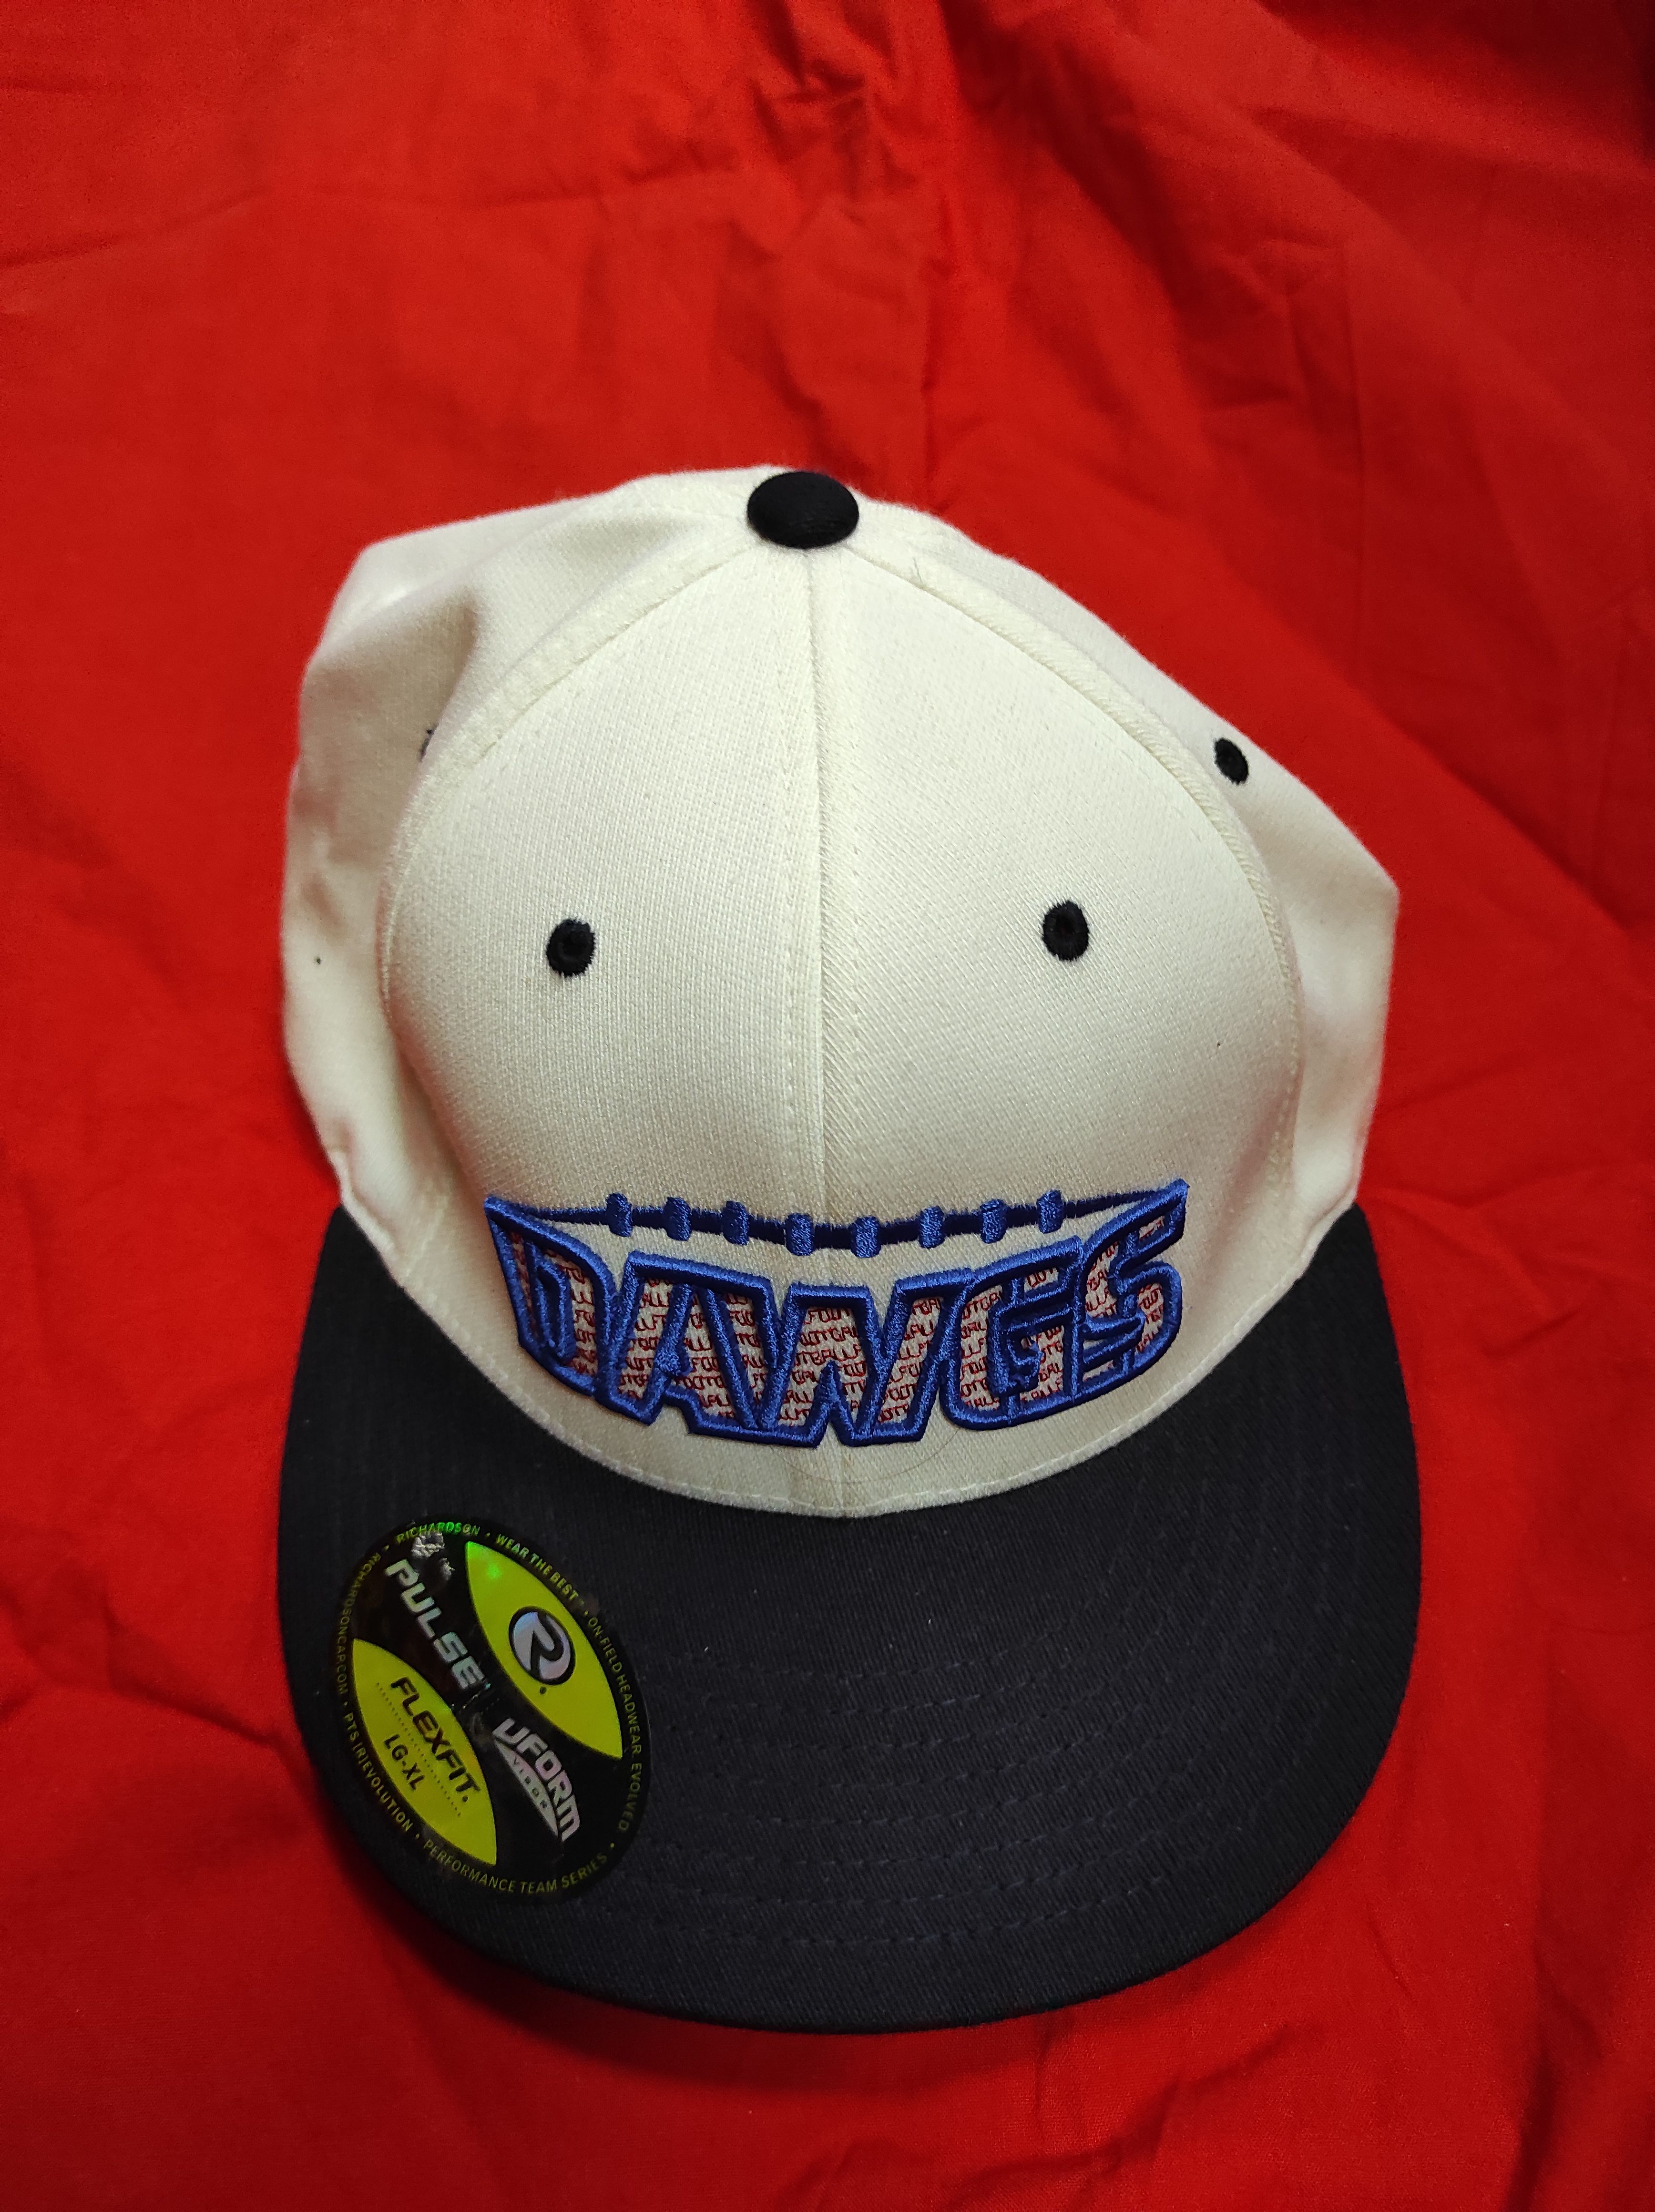clothes: (235, 470, 1455, 2043)
